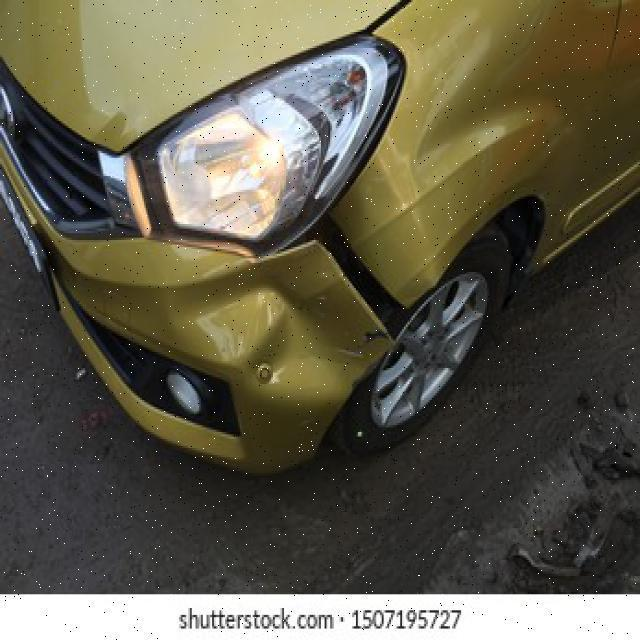front-bumper-dent: (15, 203, 439, 452)
